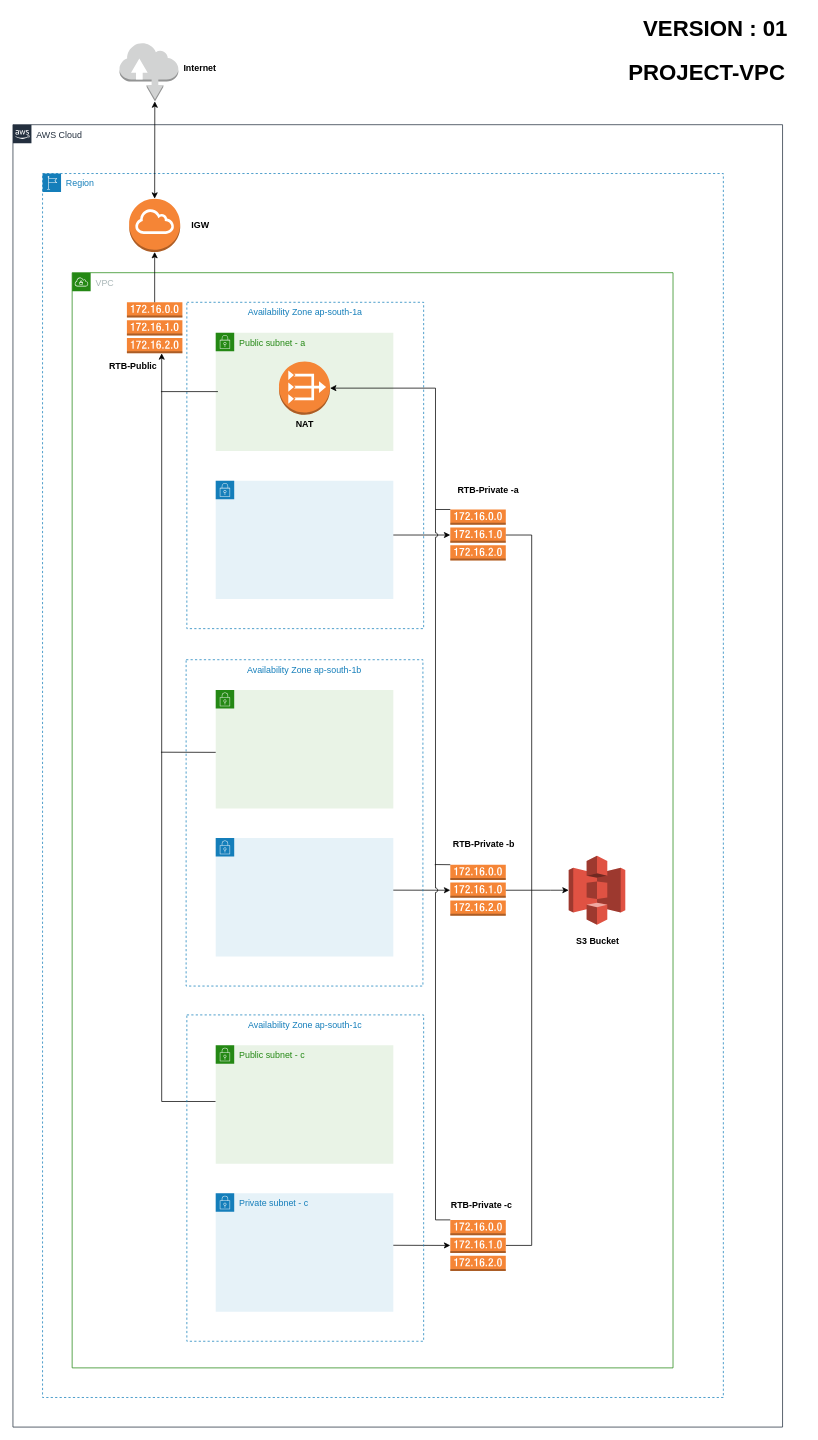
Image size: 818x1440. Some labels were removed from this diagram. Here are the shapes that lost their labels. From the top down, the centre of each, then its label:
pixel 304 539: Private subnet - a
pixel 304 748: Public subnet - b
pixel 304 896: Private subnet - b
